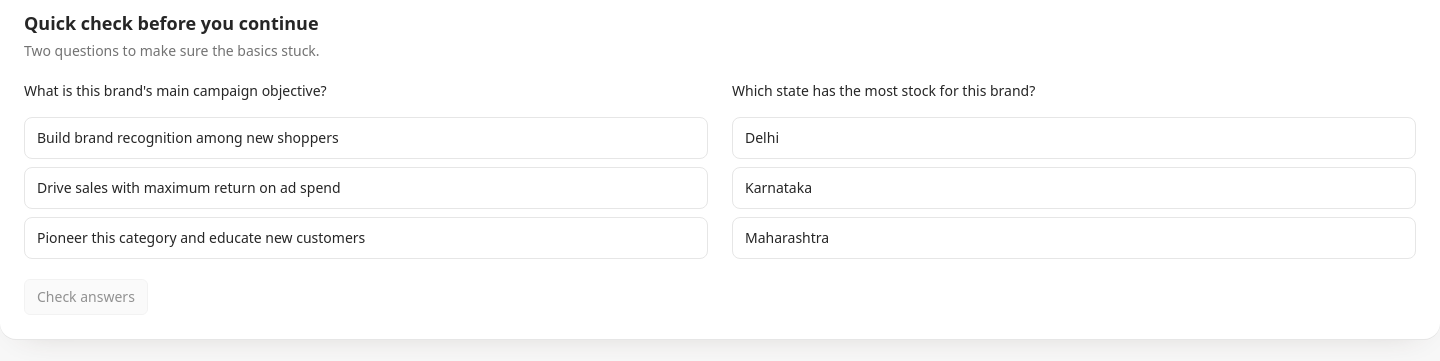
Test case: BriefQuiz: which state has the most stock › the answer is the state with the most stock, even when a secondary state beats the primary
Click the radio button labelled "Drive sales with maximum return on ad spend" at (189, 188), box [24,167,708,209]
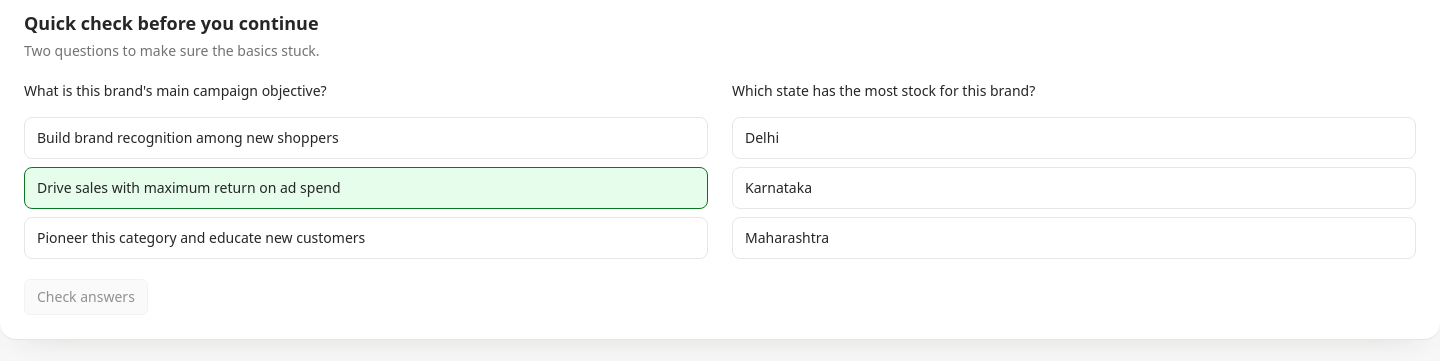
Click the radio button labelled "Maharashtra" at (787, 238), box [732,217,1416,259]
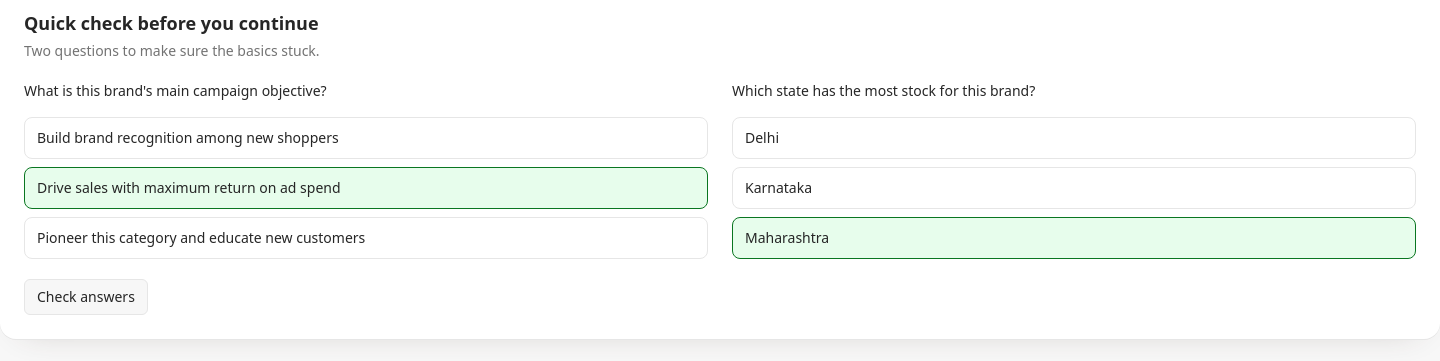
Click the button "Check answers" at (86, 297), box [24,279,148,315]
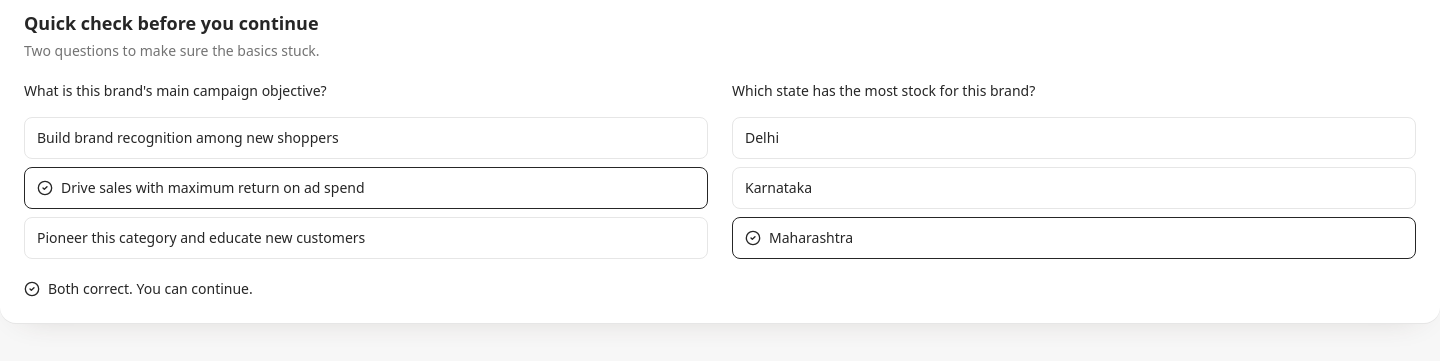
Now the text "Both correct. You can continue." is shown, box [24,279,253,299]
